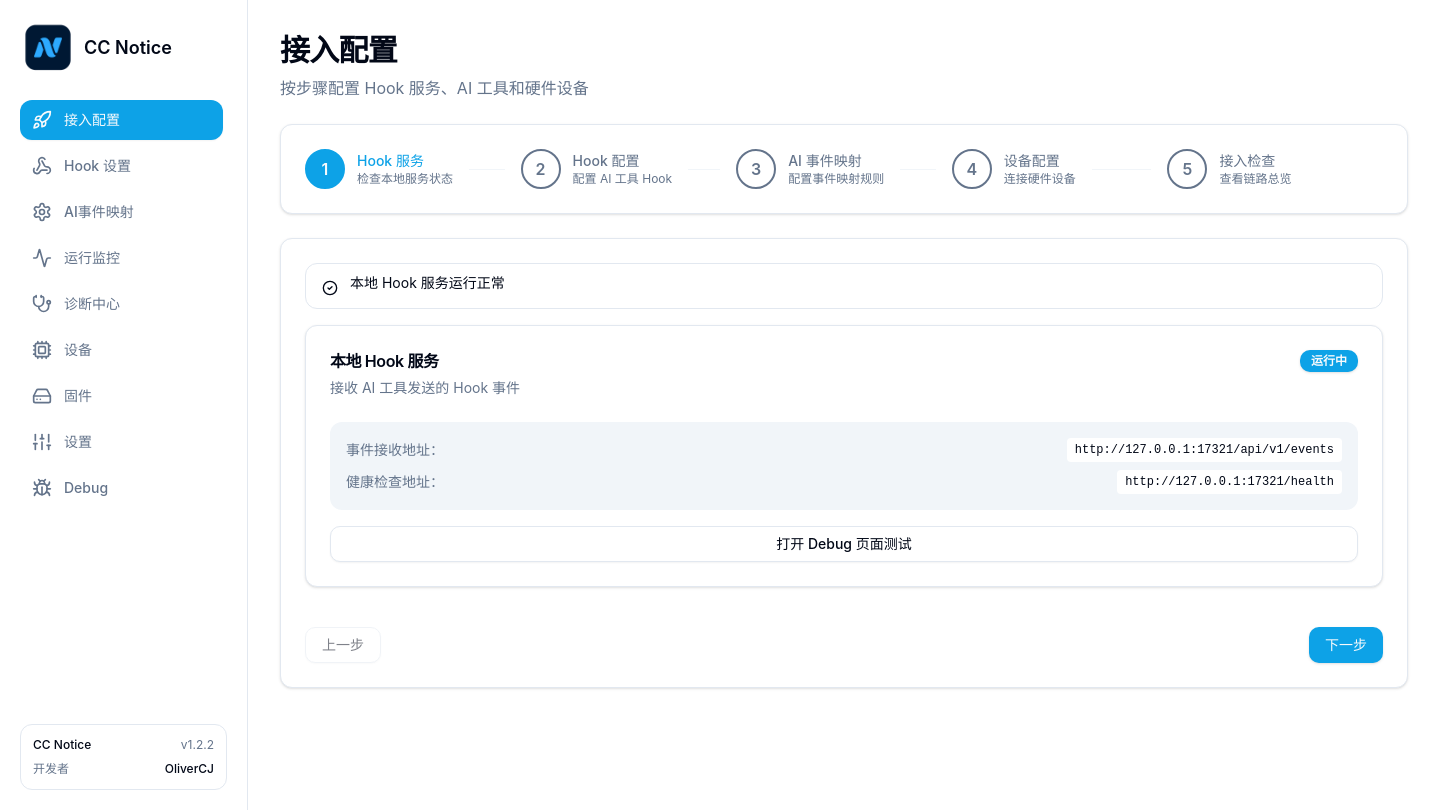
diagnostics send test event action opens debug test dialog
Click the button "诊断中心".
click(122, 304)  # box [20,284,223,324]
(page scrolled)
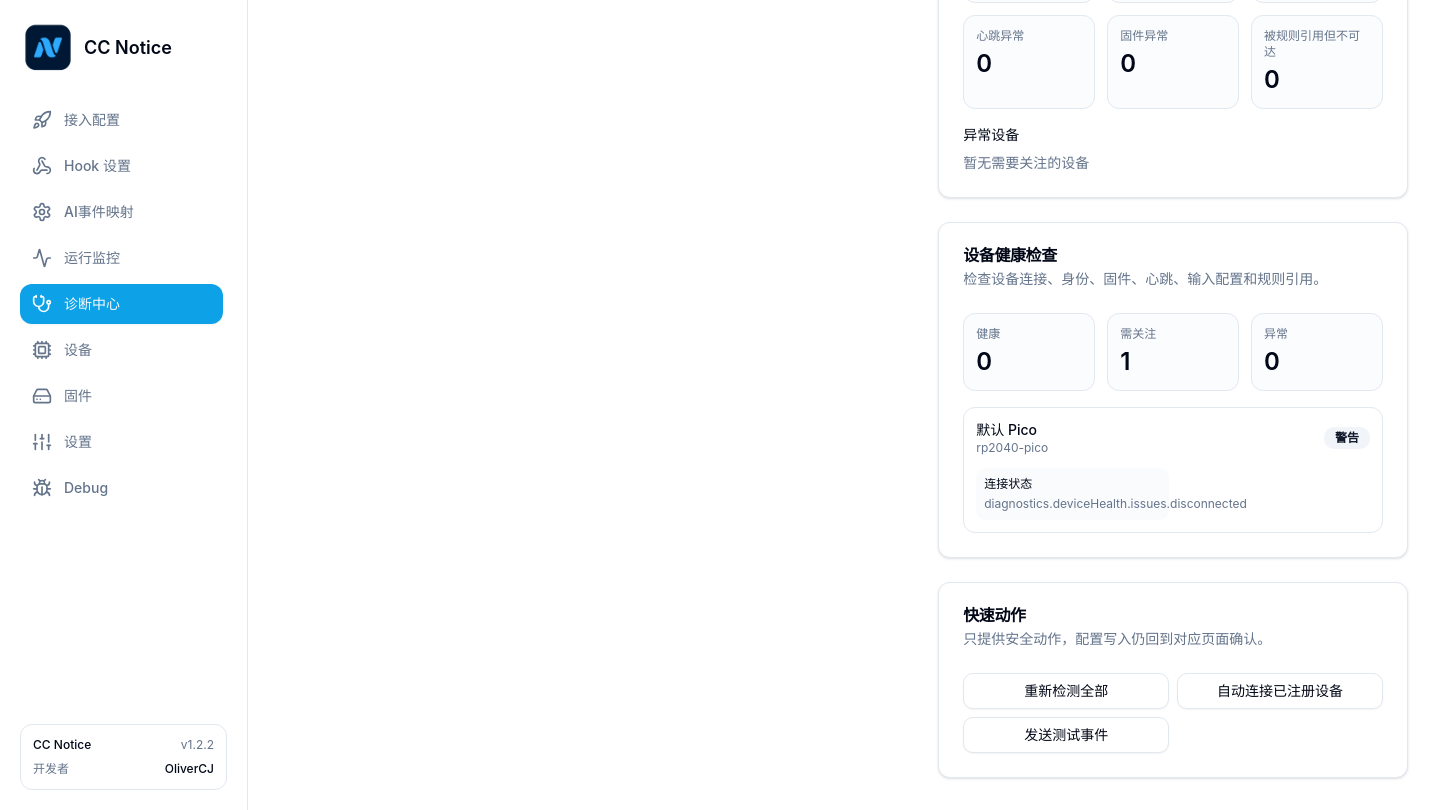
Click the button "发送测试事件".
click(1066, 735)  # box [963,717,1169,753]
(page scrolled)
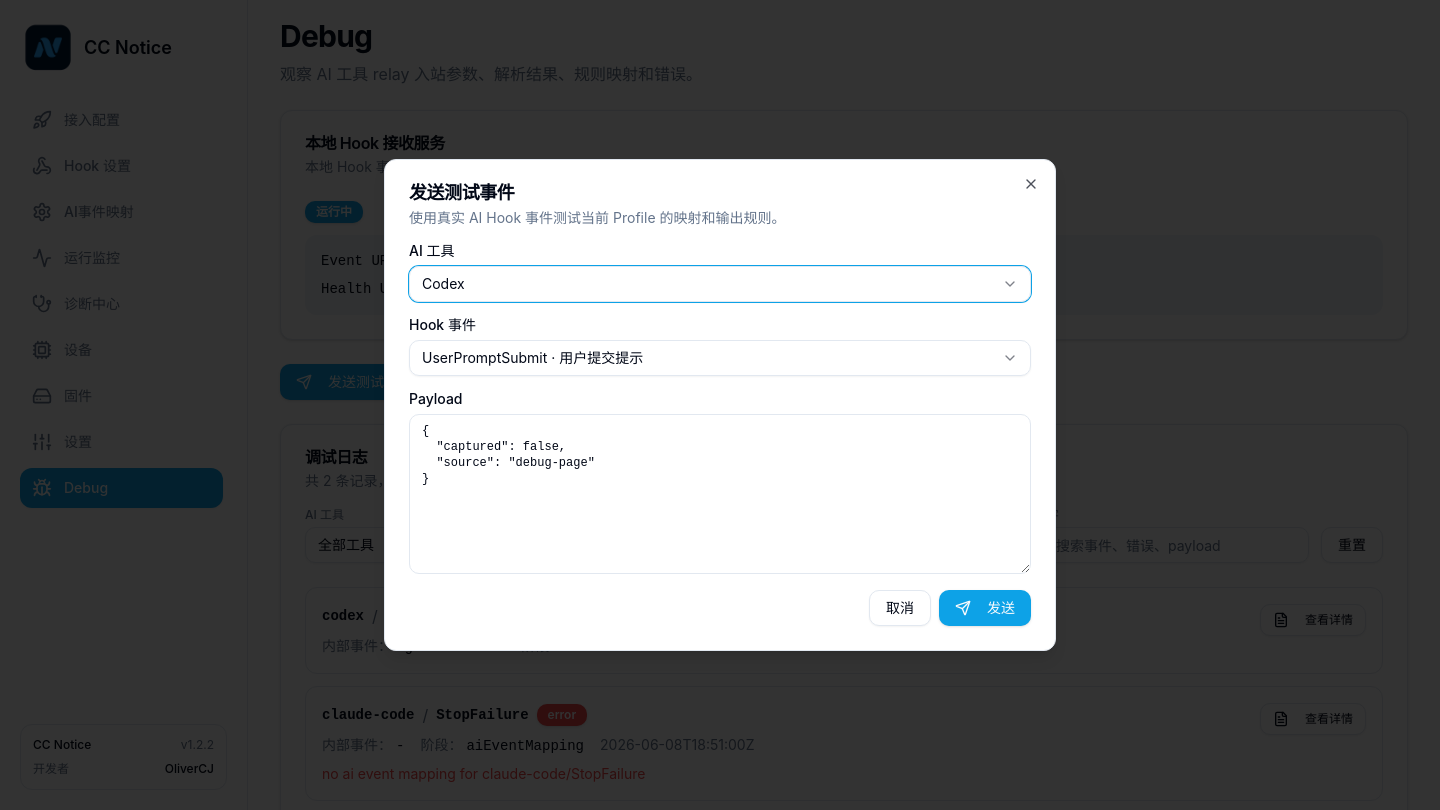
Expected: the dialog "发送测试事件" is shown, [384,159,1056,651]
